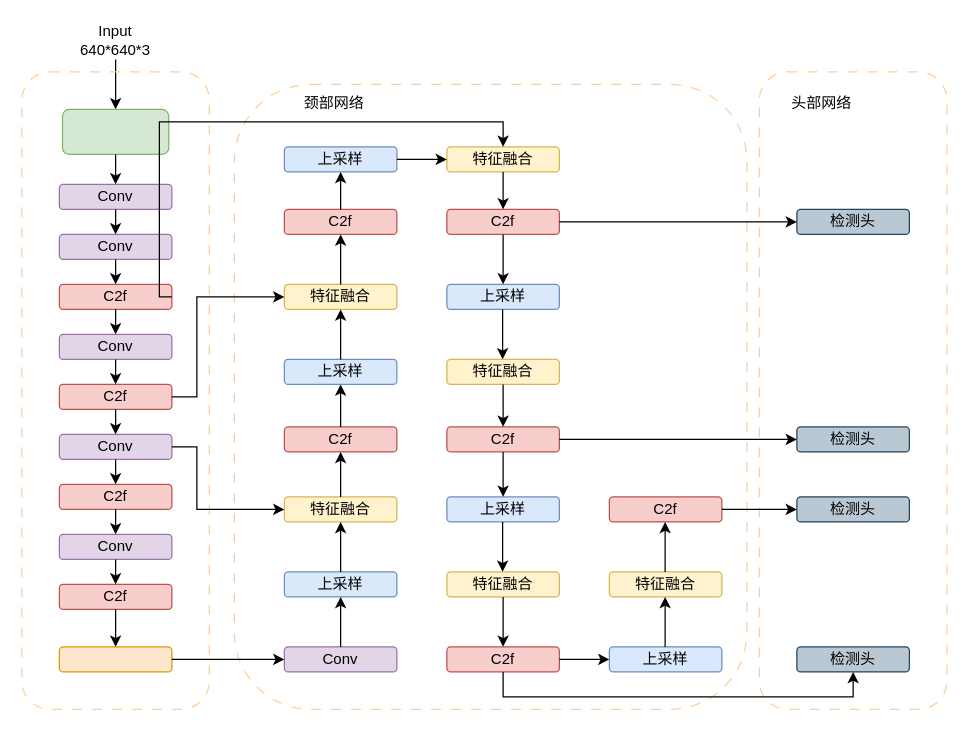
The diagram is 969 pixels wide and 731 high, and some of its shapes have lost their labels. The centre of each missing label's shape, as x and y in pixels:
SPPF: point 115,659
骨干网络: point 115,131
